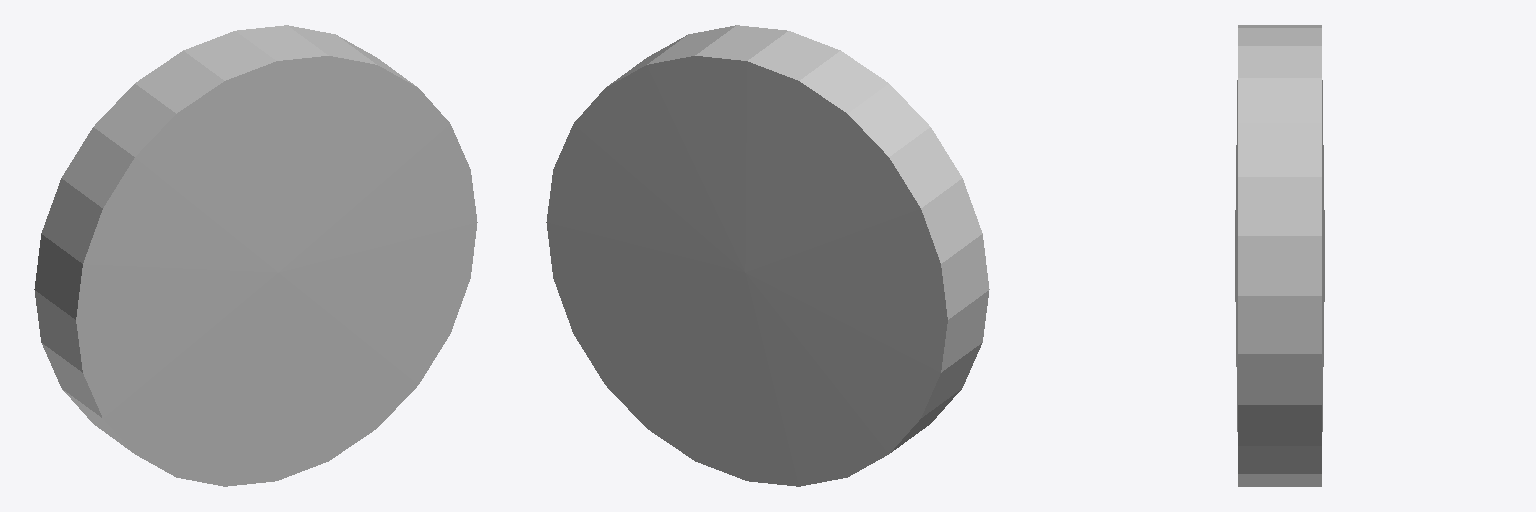
The model's file is coin.obj.
3 renders of one model, left to right at view 1: azimuth 30°, elevation 25°; view 2: azimuth 150°, elevation 25°; view 3: azimuth 270°, elevation 25°, orthographic.
Visible parts, largest first — view 1: Coin__BodyMT; view 2: Coin__BodyMT; view 3: Coin__BodyMT.
Part boxes in pixels (left/top/right/bottom): Coin__BodyMT: left=34, top=25, right=477, bottom=486; Coin__BodyMT: left=546, top=25, right=989, bottom=486; Coin__BodyMT: left=1235, top=25, right=1324, bottom=486.
Size of the model in its own units: 4.75 by 4.75 by 0.9257.